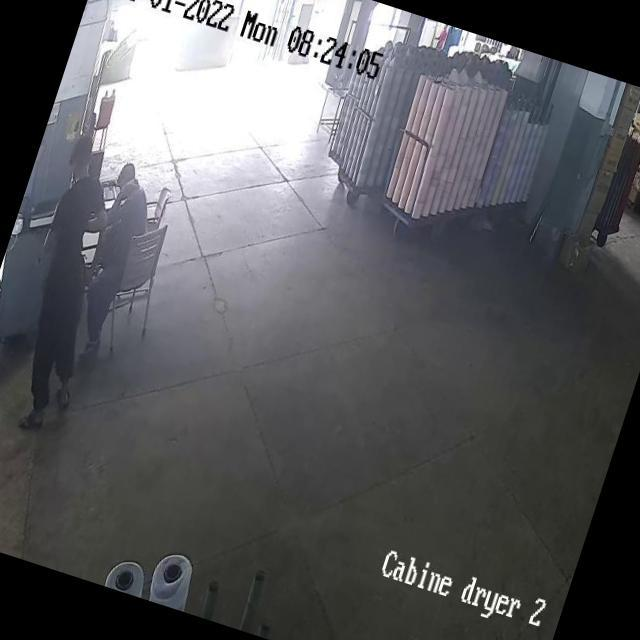person: (0, 133, 150, 435), (82, 163, 172, 315)
